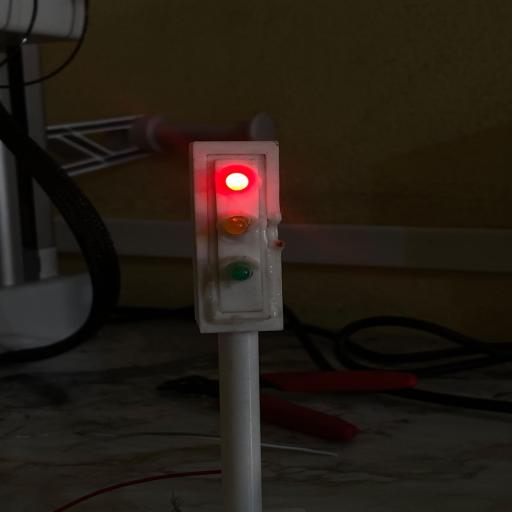Red Light: (226, 173, 249, 191)
